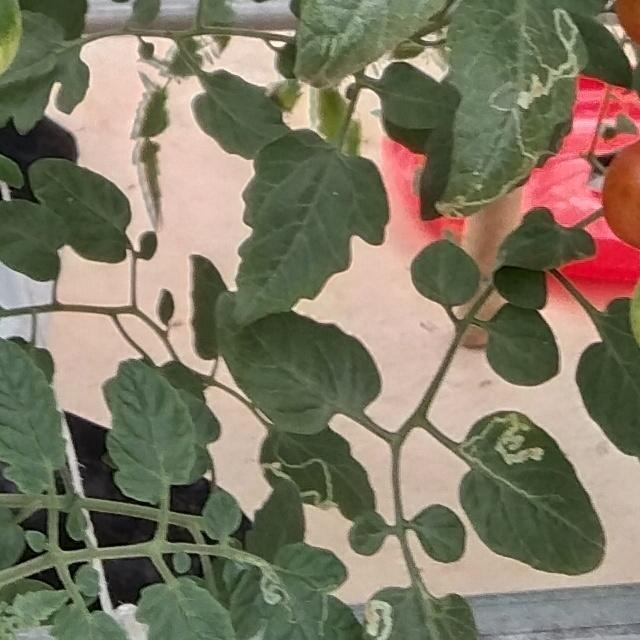Tomato healthy leaf: (230, 128, 395, 326), (210, 286, 382, 442), (105, 354, 201, 508)
Tomato target spot leaf: (434, 0, 594, 224), (457, 408, 608, 580), (257, 420, 385, 526), (246, 537, 362, 640), (364, 582, 482, 640)
